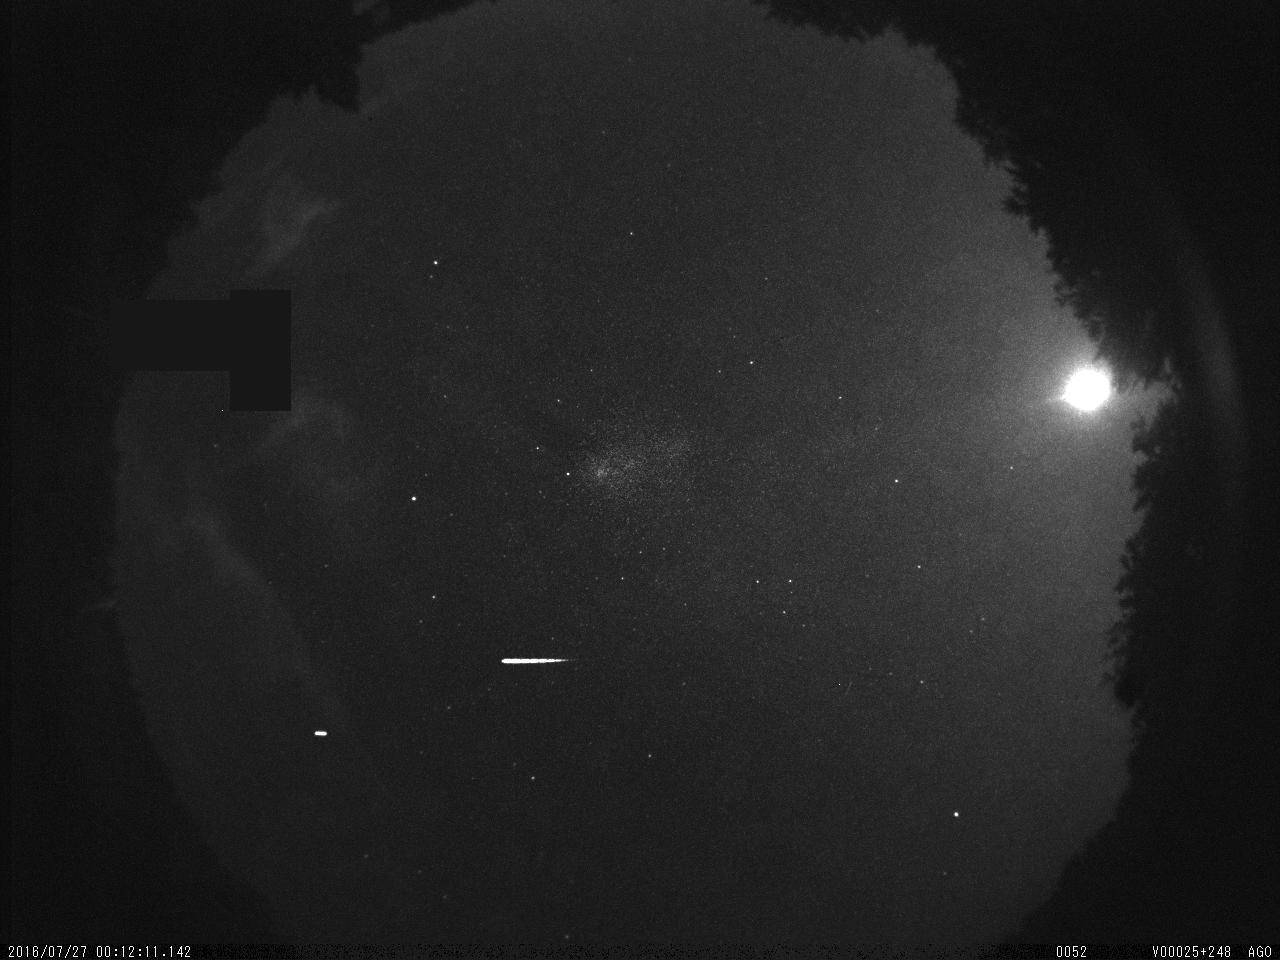meteor: (487, 642, 580, 687)
